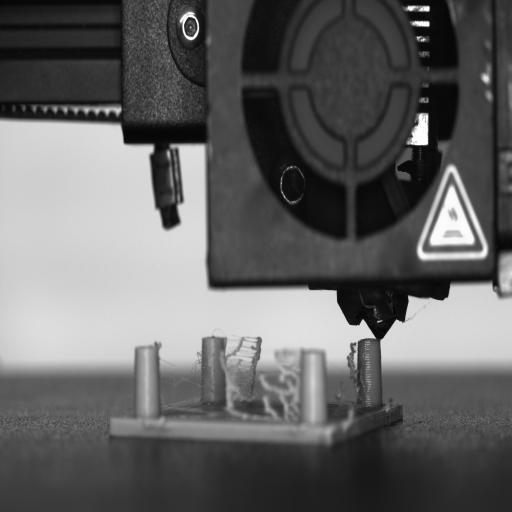spaghetti_and_stringing: (228, 331, 301, 424)
